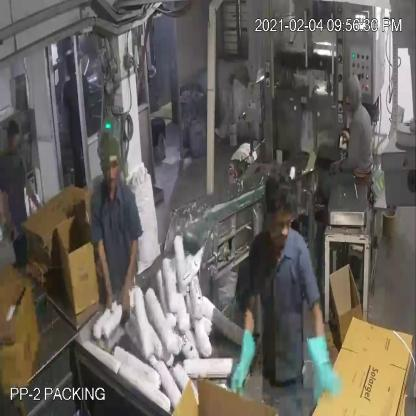glove: (302, 326, 349, 410), (231, 316, 262, 393)
no_glove: (91, 228, 118, 320), (119, 233, 141, 321), (0, 192, 23, 252), (21, 171, 44, 218)
